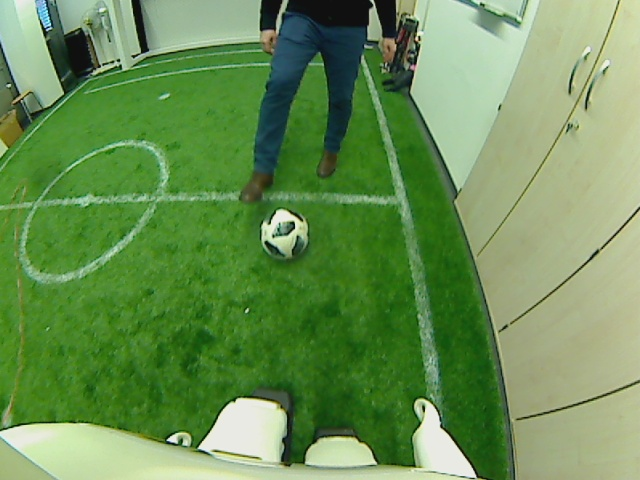ball: (259, 206, 308, 261)
